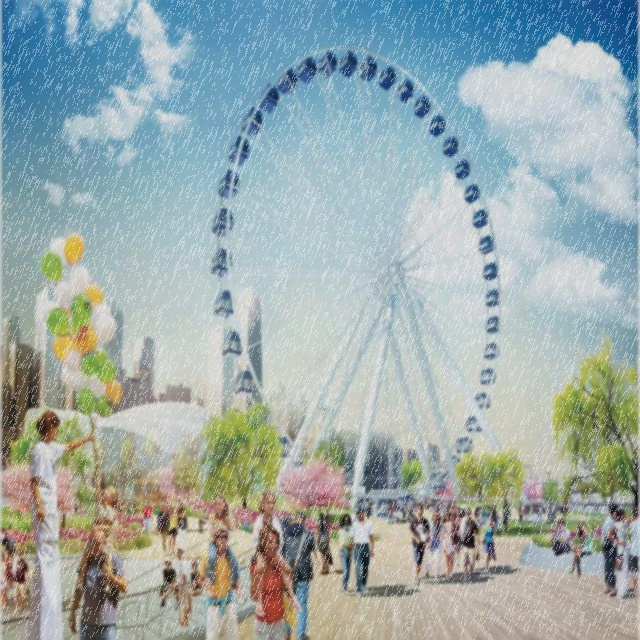pessoa: (26, 409, 98, 639), (250, 488, 304, 618), (66, 530, 128, 640), (74, 456, 120, 598), (198, 522, 244, 640), (248, 524, 294, 640), (204, 493, 248, 602), (281, 510, 317, 640), (606, 508, 640, 600), (348, 504, 375, 598), (418, 564, 521, 585), (408, 504, 432, 586), (457, 507, 480, 583), (4, 592, 76, 616), (601, 503, 619, 597), (424, 509, 446, 584), (567, 520, 593, 579), (338, 512, 354, 596), (341, 584, 422, 600), (440, 509, 458, 580), (176, 548, 191, 628), (157, 558, 180, 610), (12, 548, 30, 614), (628, 506, 640, 600), (316, 512, 333, 574), (479, 513, 496, 574), (28, 552, 45, 612), (187, 559, 203, 615), (550, 517, 572, 556), (384, 498, 416, 524), (156, 503, 170, 556), (165, 504, 179, 557), (1, 550, 11, 612), (452, 506, 462, 566), (176, 504, 189, 550), (4, 551, 15, 599), (424, 496, 456, 512), (310, 528, 321, 566), (122, 500, 142, 520), (142, 500, 154, 532), (152, 500, 163, 534), (1, 528, 12, 556), (528, 501, 546, 518), (160, 506, 170, 536), (7, 524, 17, 553), (478, 506, 491, 528), (198, 508, 208, 535), (500, 504, 507, 534), (555, 502, 569, 517), (474, 506, 482, 531), (329, 567, 351, 576), (504, 504, 511, 532), (371, 498, 379, 518), (518, 502, 524, 526), (99, 472, 107, 490), (496, 514, 502, 537), (492, 504, 498, 525), (116, 503, 122, 523), (91, 466, 97, 486), (176, 498, 183, 514), (78, 501, 84, 519), (30, 518, 36, 536), (524, 506, 529, 526), (365, 500, 370, 520), (546, 507, 552, 522), (550, 503, 554, 524), (356, 498, 364, 508), (552, 506, 556, 524), (416, 498, 424, 507), (369, 498, 372, 516), (461, 508, 466, 518), (74, 503, 78, 514), (114, 500, 118, 510), (522, 501, 528, 507), (164, 494, 170, 498), (476, 504, 479, 512)
